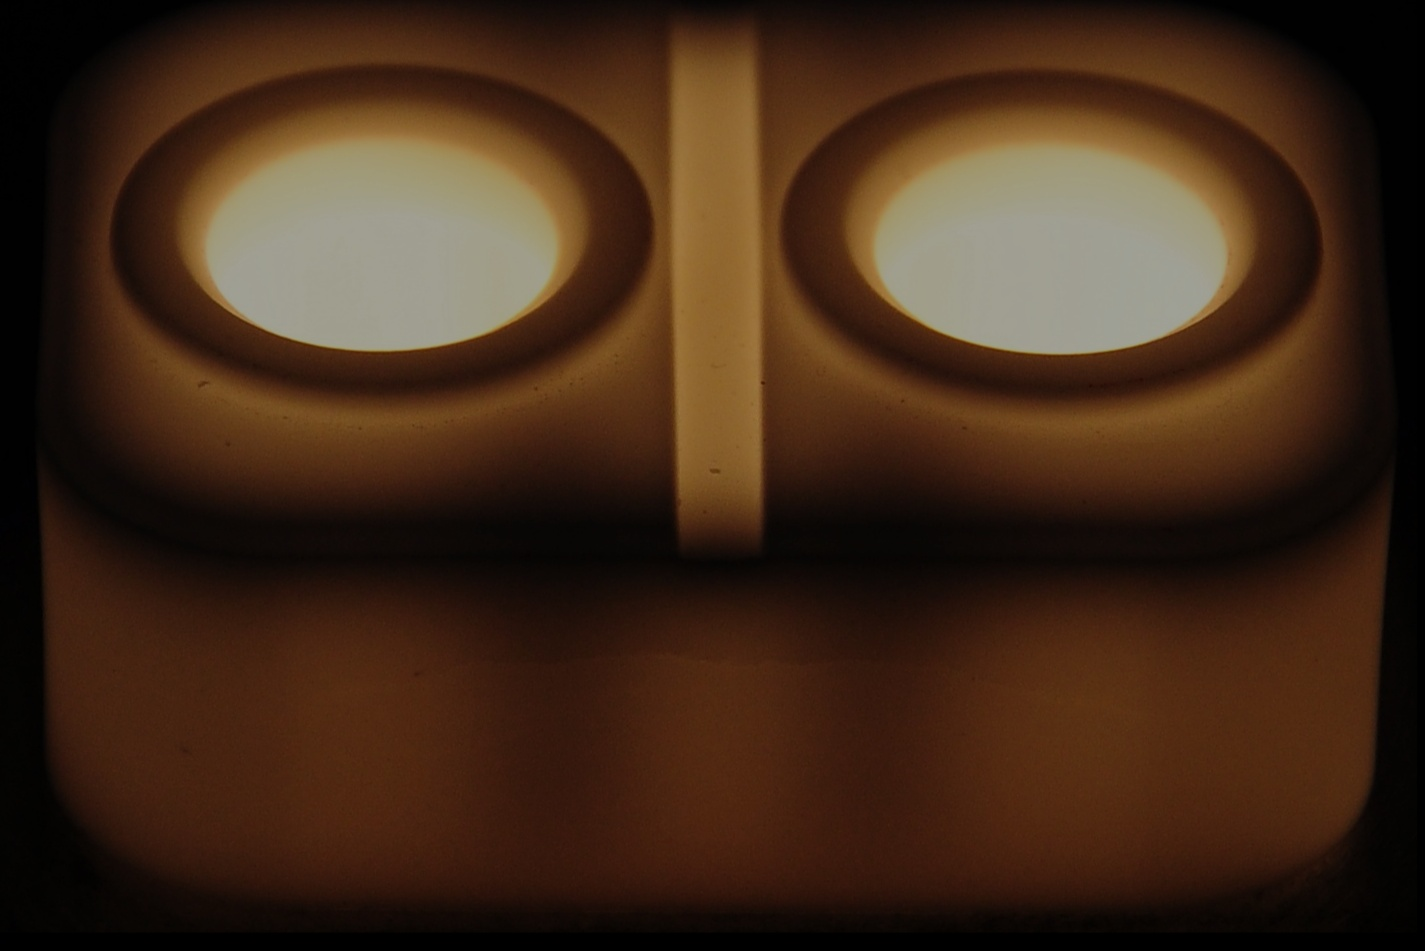flaw: (208, 634, 1266, 773)
protrusion: (755, 371, 774, 395)
